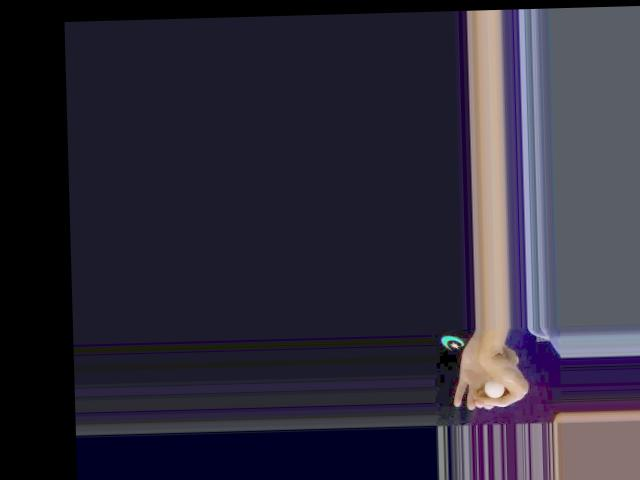egg: (484, 382, 505, 398)
